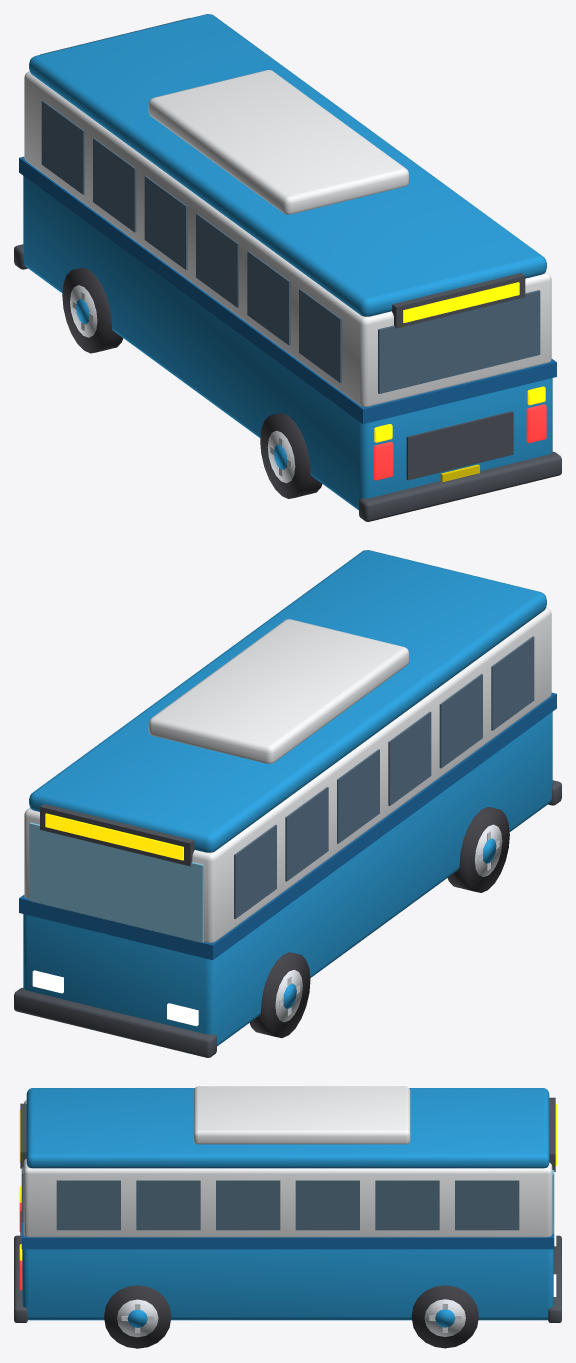
The model's file is bmtc_bus.glb.
3 renders of one model, top to bottom at view 1: azimuth 30°, elevation 25°; view 2: azimuth 150°, elevation 25°; view 3: azimuth 270°, elevation 25°, orthographic. The views are drawn at different scales.
Parts seen in each view (by area): view 1: Bus_Body, Wheel_RL, Wheel_FL; view 2: Bus_Body, Wheel_RL, Wheel_FL; view 3: Bus_Body, Wheel_RR, Wheel_FR.
Part boxes in pixels (x1,y1,x2,y2): Bus_Body: (14, 14, 561, 521); Wheel_RL: (260, 413, 322, 498); Wheel_FL: (62, 267, 123, 353); Bus_Body: (14, 550, 561, 1057); Wheel_RL: (447, 807, 509, 892); Wheel_FL: (249, 952, 310, 1037); Bus_Body: (14, 1086, 561, 1322); Wheel_RR: (104, 1285, 171, 1348); Wheel_FR: (411, 1285, 478, 1348).
Size of the model in its own units: 2.68 by 3.18 by 7.84.
